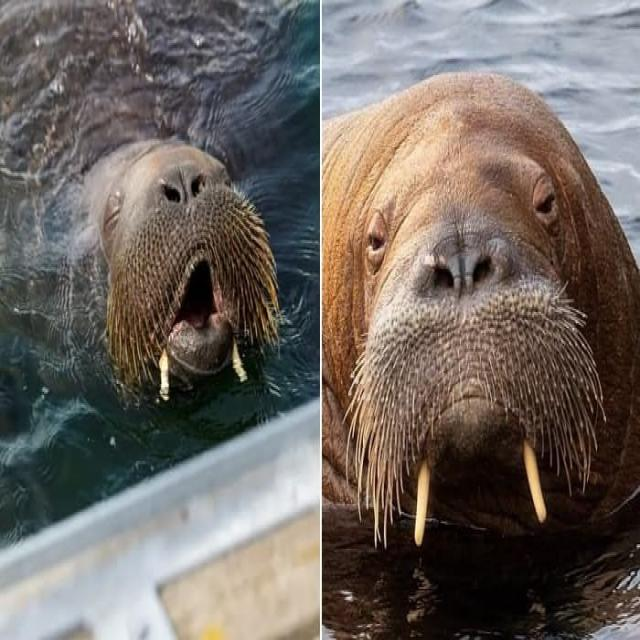walrus: (332, 44, 628, 604), (40, 104, 289, 449)
